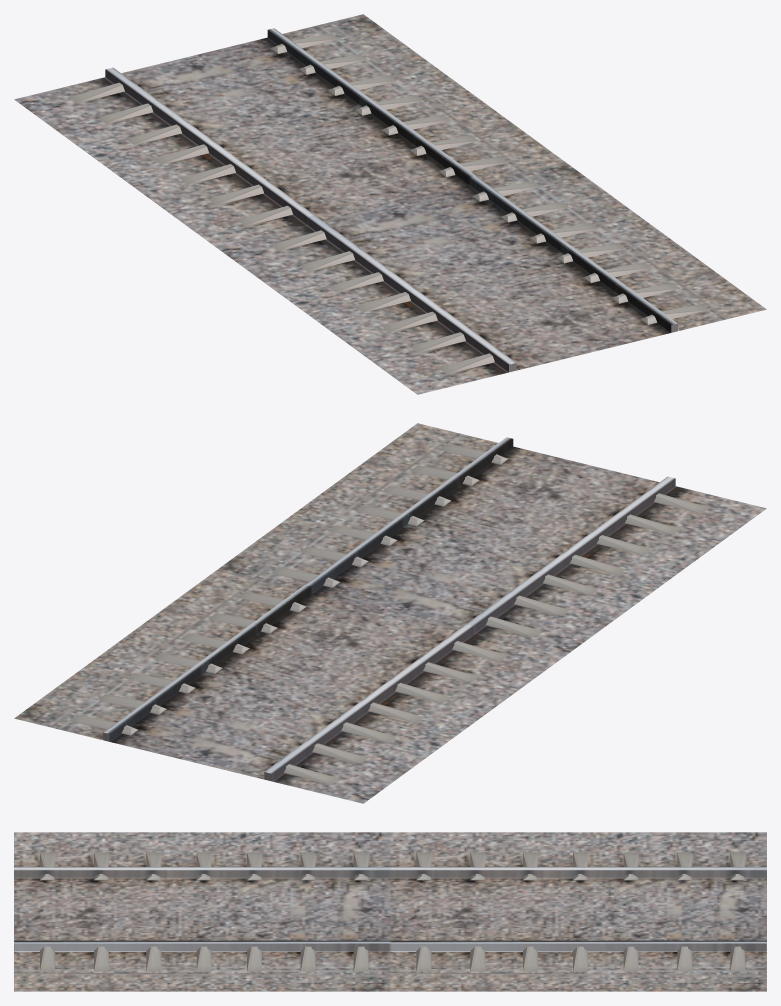
Rendered from trainrail.fbx.
3 renders of one model, top to bottom at view 1: azimuth 30°, elevation 25°; view 2: azimuth 150°, elevation 25°; view 3: azimuth 270°, elevation 25°, orthographic. The views are drawn at different scales.
Visible parts, largest first — view 1: Plane.001, Plane.002; view 2: Plane.002, Plane.001; view 3: Plane.001, Plane.002.
Boxes of the visible parts, x1=… form: Plane.001: x1=216, y1=162, x2=766, y2=394; Plane.002: x1=14, y1=14, x2=564, y2=246; Plane.002: x1=14, y1=571, x2=564, y2=803; Plane.001: x1=216, y1=423, x2=766, y2=655; Plane.001: x1=14, y1=832, x2=390, y2=991; Plane.002: x1=390, y1=832, x2=766, y2=991.
Bounding box in the file's own units: 200 × 4.22 × 400.
1 material, 1 textured.
